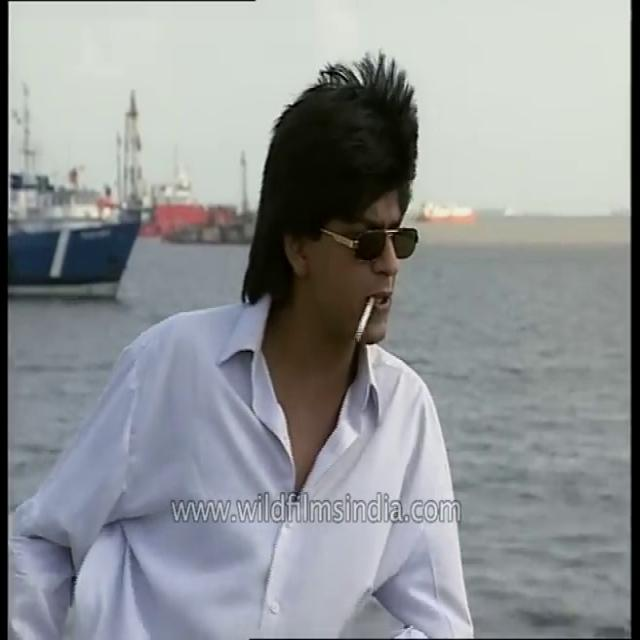Smooking: (347, 289, 378, 353)
